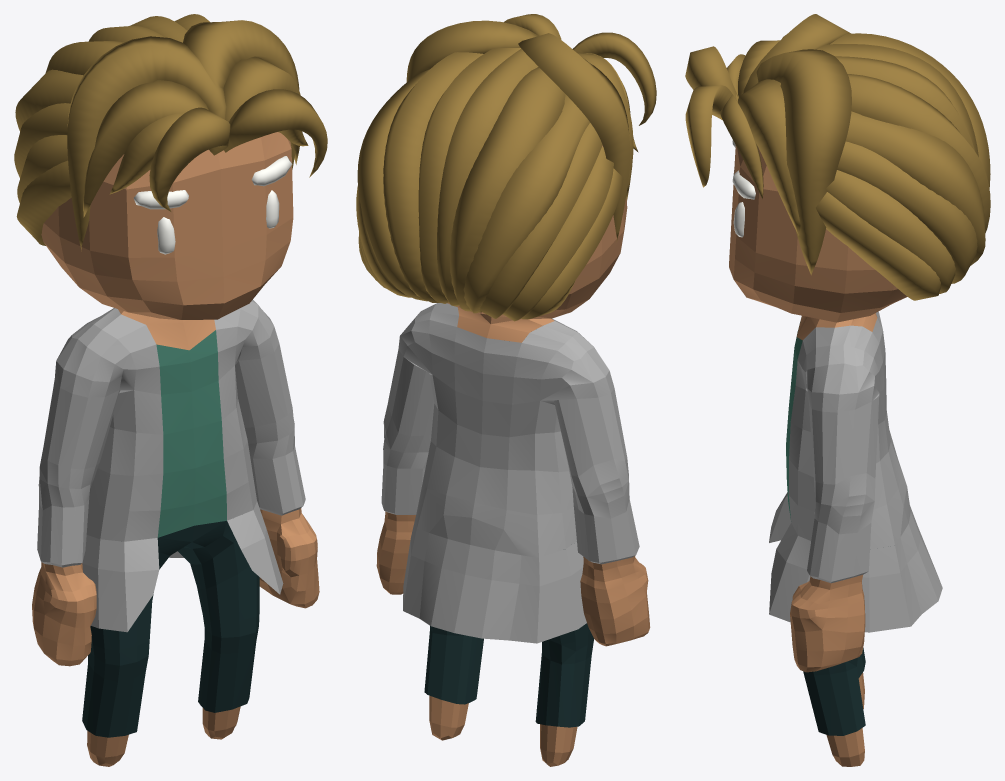
File: debout-doctor-male-young.glb
3 renders of one model, left to right at view 1: azimuth 30°, elevation 25°; view 2: azimuth 150°, elevation 25°; view 3: azimuth 270°, elevation 25°, orthographic. The views are drawn at different scales.
Parts seen in each view (by area): view 1: CUNurbsPath010_3, CUNurbsPath010_2, CUNurbsPath010, CUNurbsPath010_5, CUNurbsPath010_4, CUNurbsPath010_1; view 2: CUNurbsPath010, CUNurbsPath010_3, CUNurbsPath010_2, CUNurbsPath010_5; view 3: CUNurbsPath010, CUNurbsPath010_3, CUNurbsPath010_2, CUNurbsPath010_5, CUNurbsPath010_1, CUNurbsPath010_4.
Boxes of the visible parts, x1,y1,x2,y2 form: CUNurbsPath010_3: [37, 300, 305, 632]; CUNurbsPath010_2: [32, 132, 319, 766]; CUNurbsPath010: [14, 14, 327, 251]; CUNurbsPath010_5: [82, 521, 259, 737]; CUNurbsPath010_4: [156, 330, 226, 537]; CUNurbsPath010_1: [133, 156, 292, 254]; CUNurbsPath010: [356, 14, 656, 321]; CUNurbsPath010_3: [381, 303, 639, 643]; CUNurbsPath010_2: [376, 145, 650, 766]; CUNurbsPath010_5: [424, 623, 593, 727]; CUNurbsPath010: [685, 14, 990, 300]; CUNurbsPath010_3: [769, 311, 942, 632]; CUNurbsPath010_2: [729, 145, 907, 766]; CUNurbsPath010_5: [803, 648, 865, 735]; CUNurbsPath010_1: [732, 140, 755, 237]; CUNurbsPath010_4: [786, 322, 802, 521].
Size of the model in its own units: 0.6948 by 1.77 by 0.6984.
